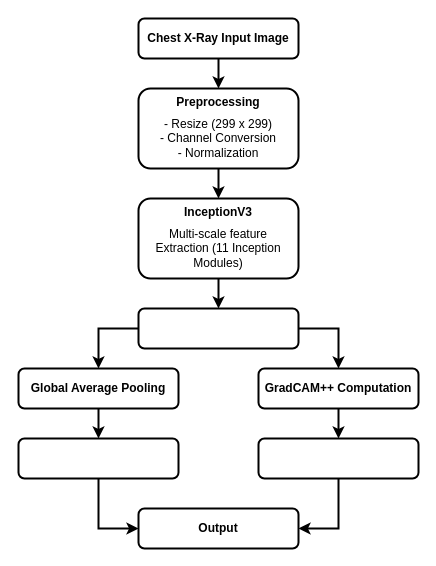
Image size: 436x566. Some labels were removed from this diagram. Each missing label, with the centre of its shape:
"Classification" belongs at pixel 98 458.
"Feature Maps" belongs at pixel 218 328.
"Heatmap" belongs at pixel 338 458.
